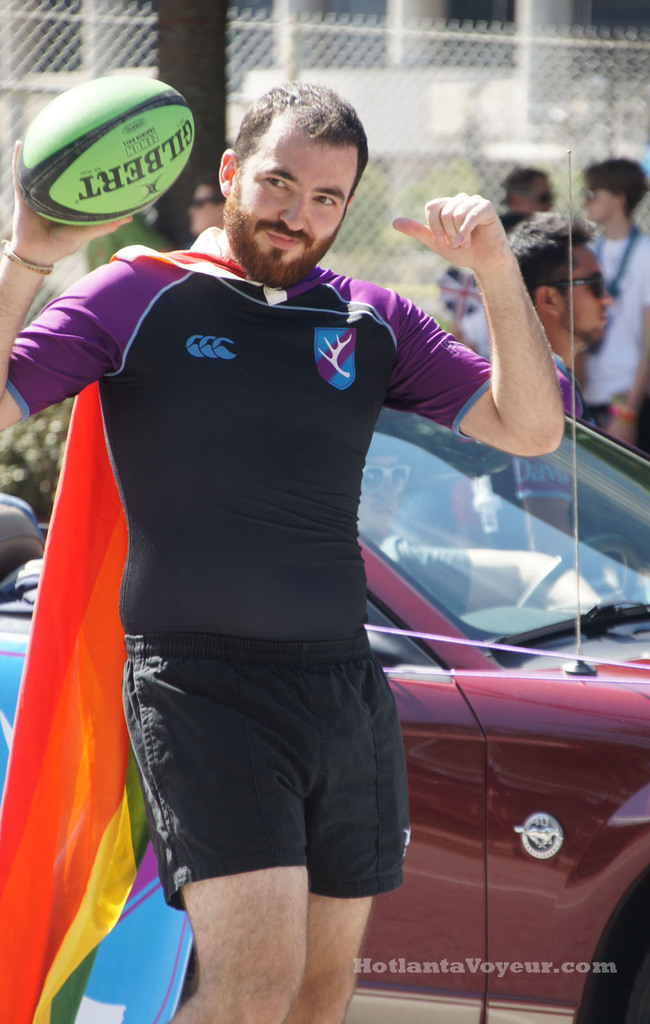Car: (0, 338, 649, 1023)
